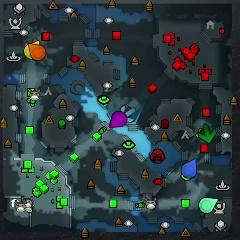p1: (182, 159, 197, 177)
p2: (199, 197, 218, 213)
p3: (109, 111, 127, 127)
p4: (24, 41, 39, 60)
p5: (28, 43, 47, 61)
x1: (24, 38, 36, 47)
x3: (121, 105, 135, 122)
x4: (198, 124, 216, 143)
